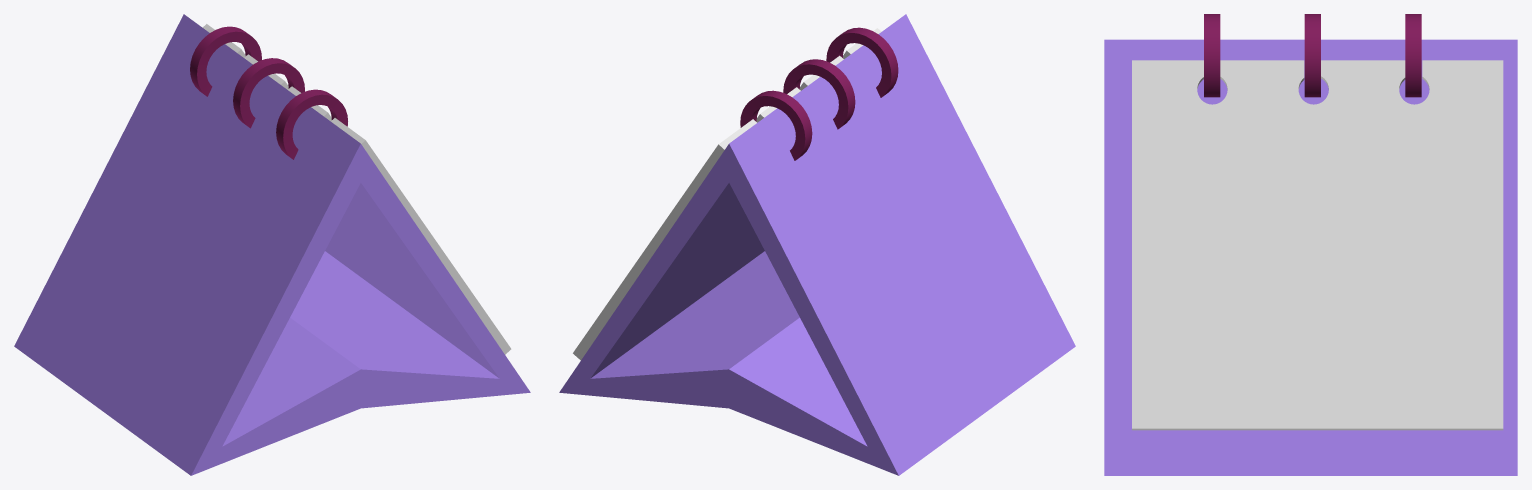
File: notatnik-anima.gltf
The picture shows the model from 3 angles, left to right: view 1: azimuth 30°, elevation 25°; view 2: azimuth 150°, elevation 25°; view 3: azimuth 270°, elevation 25°; orthographic projection. The views are drawn at different scales.
Visible parts, largest first — view 1: Plane, Circle, Plane.002; view 2: Plane, Circle, Plane.002; view 3: Plane.002, Plane, Circle.
Part boxes in pixels (box(x1,y1,x2,y2)): Plane: box(14, 14, 530, 475); Circle: box(190, 26, 347, 159); Plane.002: box(202, 24, 511, 354); Plane: box(559, 14, 1075, 475); Circle: box(740, 27, 898, 160); Plane.002: box(573, 28, 881, 360); Plane.002: box(1132, 60, 1503, 430); Plane: box(1104, 39, 1517, 475); Circle: box(1204, 14, 1421, 97).
Bounding box in the file's own units: 1.73 × 1.5 × 1.56.
Materials: 1 (1 with a texture image).
